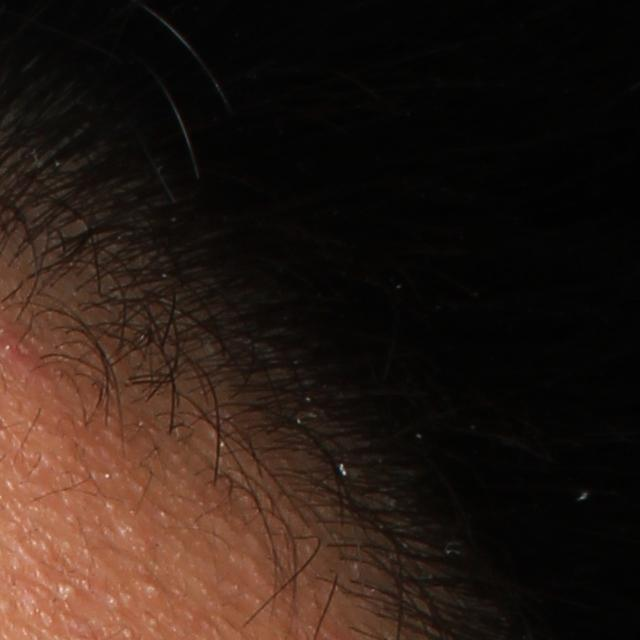comedo: (140, 576, 160, 601), (58, 577, 76, 599)
